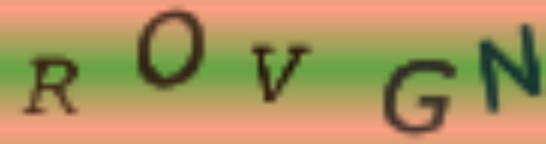G: (378, 55, 461, 136)
N: (472, 19, 544, 119)
O: (132, 6, 212, 94)
R: (19, 52, 86, 119)
V: (247, 40, 315, 107)
